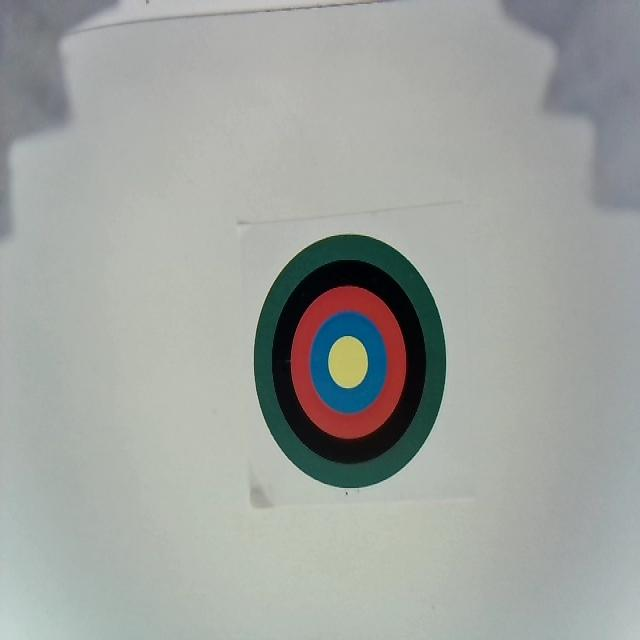cogn: (252, 232, 448, 491)
